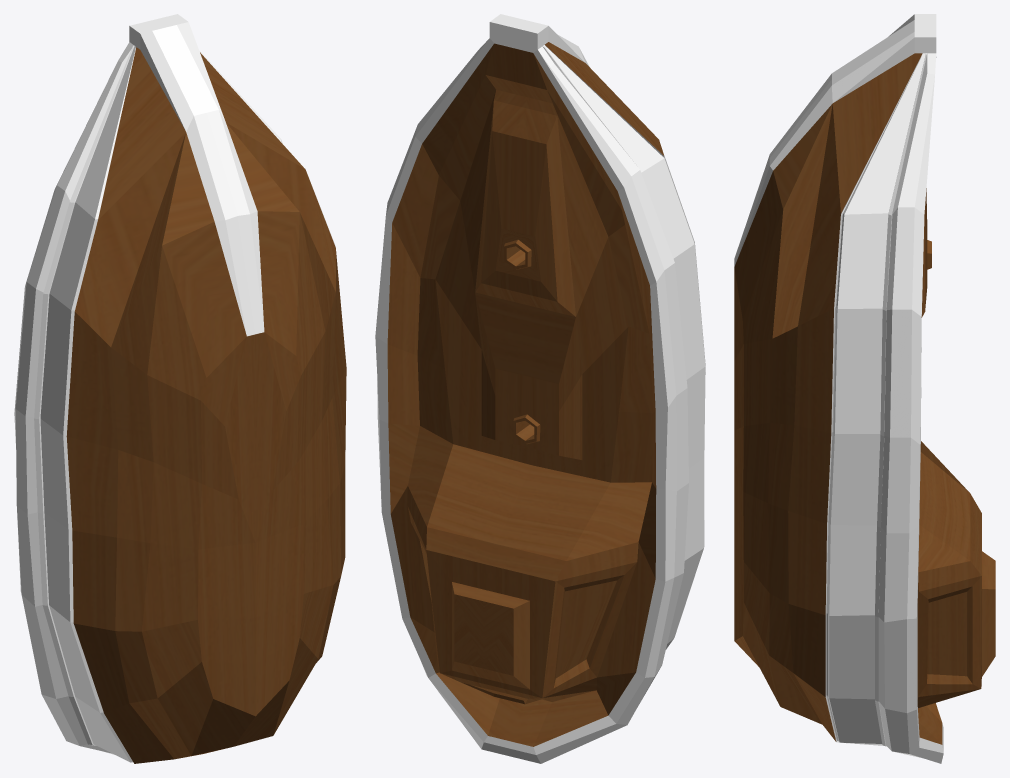
Rendered from body_4.fbx.
The picture shows the model from 3 angles, left to right: view 1: azimuth 30°, elevation 25°; view 2: azimuth 150°, elevation 25°; view 3: azimuth 270°, elevation 25°; orthographic projection.
Visible parts, largest first — view 1: Cube.211; view 2: Cube.211; view 3: Cube.211.
Part boxes in pixels (left/top/right/bottom): Cube.211: left=14, top=14, right=346, bottom=763; Cube.211: left=375, top=14, right=705, bottom=763; Cube.211: left=734, top=14, right=995, bottom=763.
Bounding box in the file's own units: 166 × 384 × 126.
